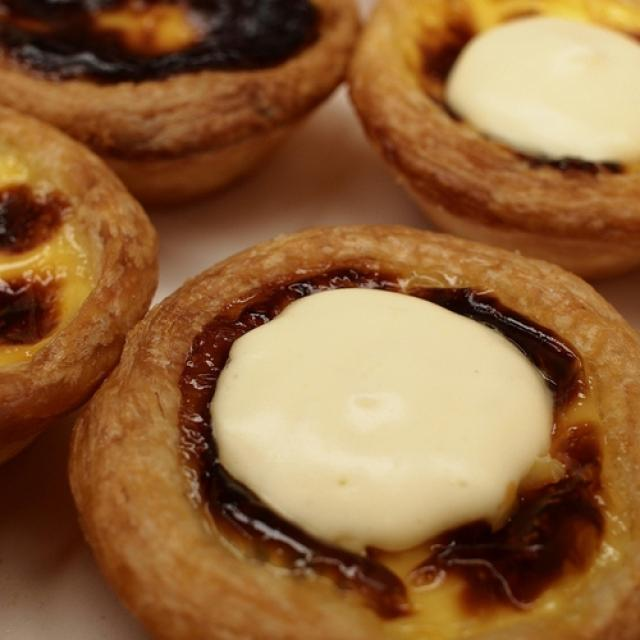炸货点心: (5, 8, 623, 631)
蛋糕甜品: (5, 8, 623, 631)
